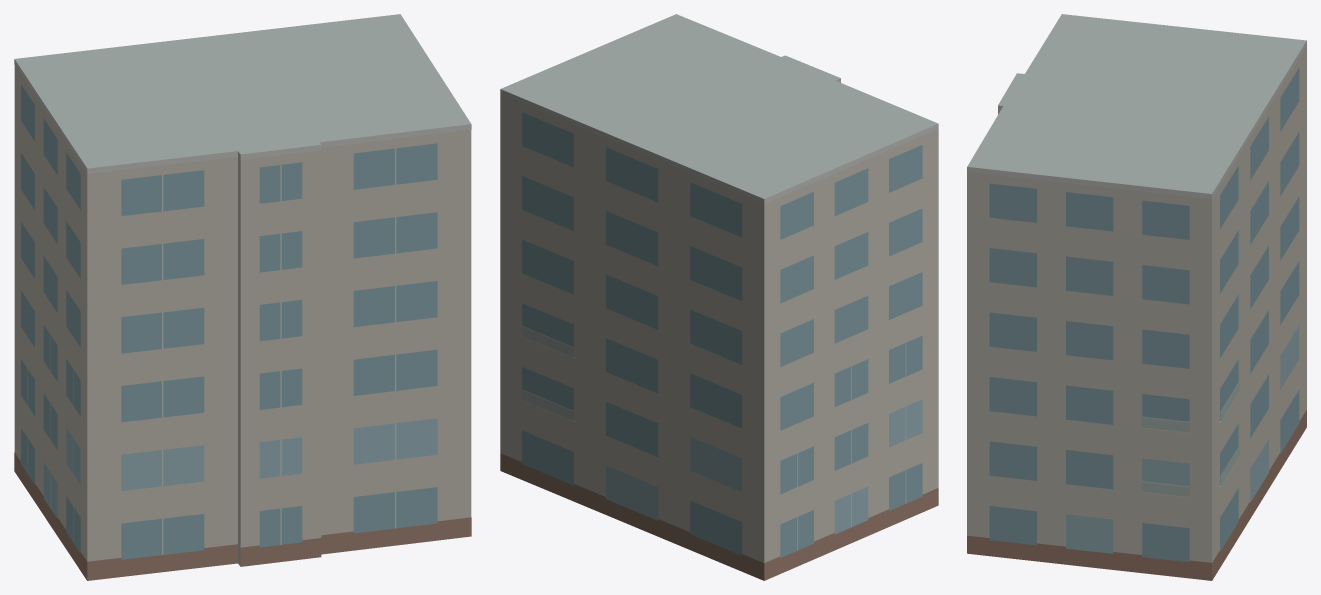
File: survey-upis-33027742.glb
3 renders of one model, left to right at view 1: azimuth 30°, elevation 25°; view 2: azimuth 150°, elevation 25°; view 3: azimuth 270°, elevation 25°, orthographic. The views are drawn at different scales.
Parts seen in each view (by area): view 1: survey-upis-33027742.tmp; view 2: survey-upis-33027742.tmp; view 3: survey-upis-33027742.tmp.
Part boxes in pixels (x1,y1,x2,y2): survey-upis-33027742.tmp: (14,14,471,580); survey-upis-33027742.tmp: (500,14,938,580); survey-upis-33027742.tmp: (967,14,1306,580).
Bounding box in the file's own units: 18.27 × 18.3 × 14.57.
